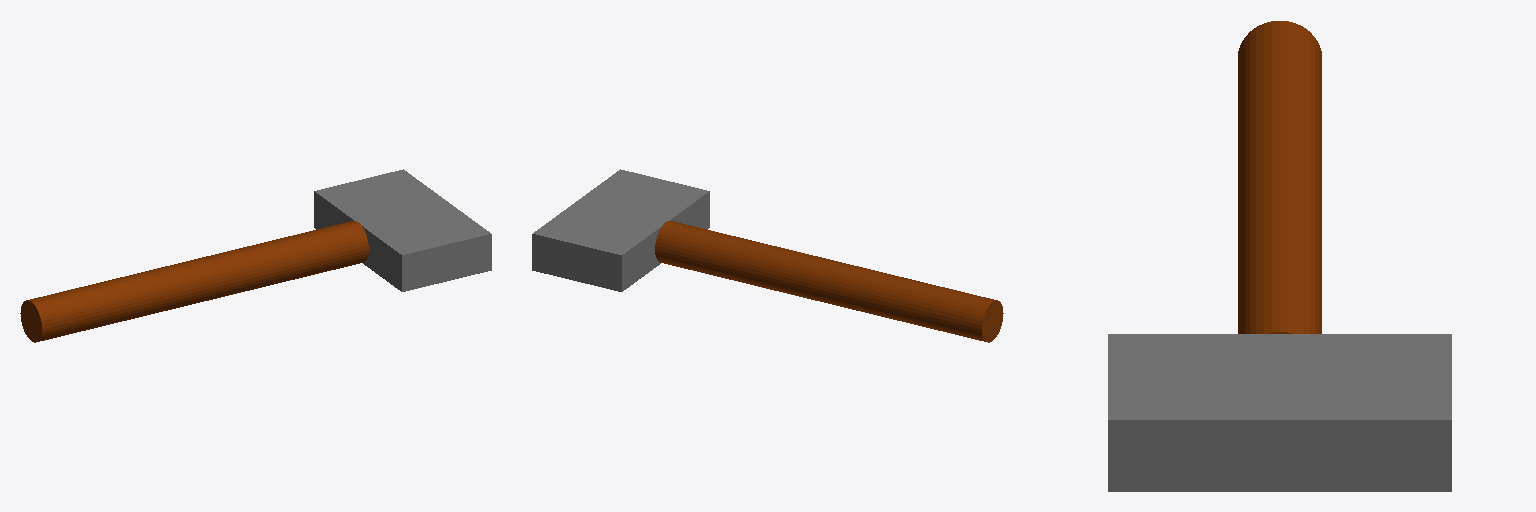
The robot description file, URDF, robot "handle_head":
<?xml version="1.0"?>
<robot name="handle_head">

  <link name="handle_head">
    <!-- Handle -->
    <visual>
              <origin xyz="0 0 0" rpy="0 -1.5707963267948966 0"/>
        <geometry>
          <cylinder length="0.19481417278284424" radius="0.01120942447150023"/>
        </geometry>
        
      <material name="brown">
        <color rgba="0.55 0.27 0.07 1.0"/>
      </material>
    </visual>
    <collision>
              <origin xyz="0 0 0" rpy="0 -1.5707963267948966 0"/>
        <geometry>
          <cylinder length="0.19481417278284424" radius="0.01120942447150023"/>
        </geometry>
        
    </collision>

    <!-- Head -->
    <visual>
              <origin xyz="0.12404531357084614 0 0" rpy="0 0 0"/>
        <geometry>
          <box size="0.053276454358848035 0.09083252158564153 0.021006869136709825"/>
        </geometry>
        
      <material name="gray">
        <color rgba="0.5 0.5 0.5 1.0"/>
      </material>
    </visual>
    <collision>
              <origin xyz="0.12404531357084614 0 0" rpy="0 0 0"/>
        <geometry>
          <box size="0.053276454358848035 0.09083252158564153 0.021006869136709825"/>
        </geometry>
        
    </collision>

    <inertial>
      <origin xyz="0.10221549986204166 0 0" rpy="0 0 0"/>
      <mass value="0.20368626411267465"/>
      <inertia ixx="0.0001237904591180176" iyy="0.0006331556941877468" izz="0.0007423818595606053" ixy="0" ixz="0" iyz="0"/>
    </inertial>
  </link>

</robot>

--- What the picture shows (computed from the rendered views, not written in the file) ---
3 views of the same robot in one strip: view 1: azimuth 30°, elevation 25°; view 2: azimuth 150°, elevation 25°; view 3: azimuth 270°, elevation 25° (orthographic).
Model handle_head with 1 links and 0 joints (none), rooted at handle_head, posed all joints at 0.
Visible links, largest first — view 1: handle_head; view 2: handle_head; view 3: handle_head.
Boxes of the visible links, <box> form: handle_head: <box>20,169,491,342</box>; handle_head: <box>532,169,1003,342</box>; handle_head: <box>1108,21,1451,491</box>.
Size in the robot's own frame: 0.2481 by 0.0908 by 0.0224 metres.
Geometry: primitives only (box / cylinder / sphere), no mesh files.
